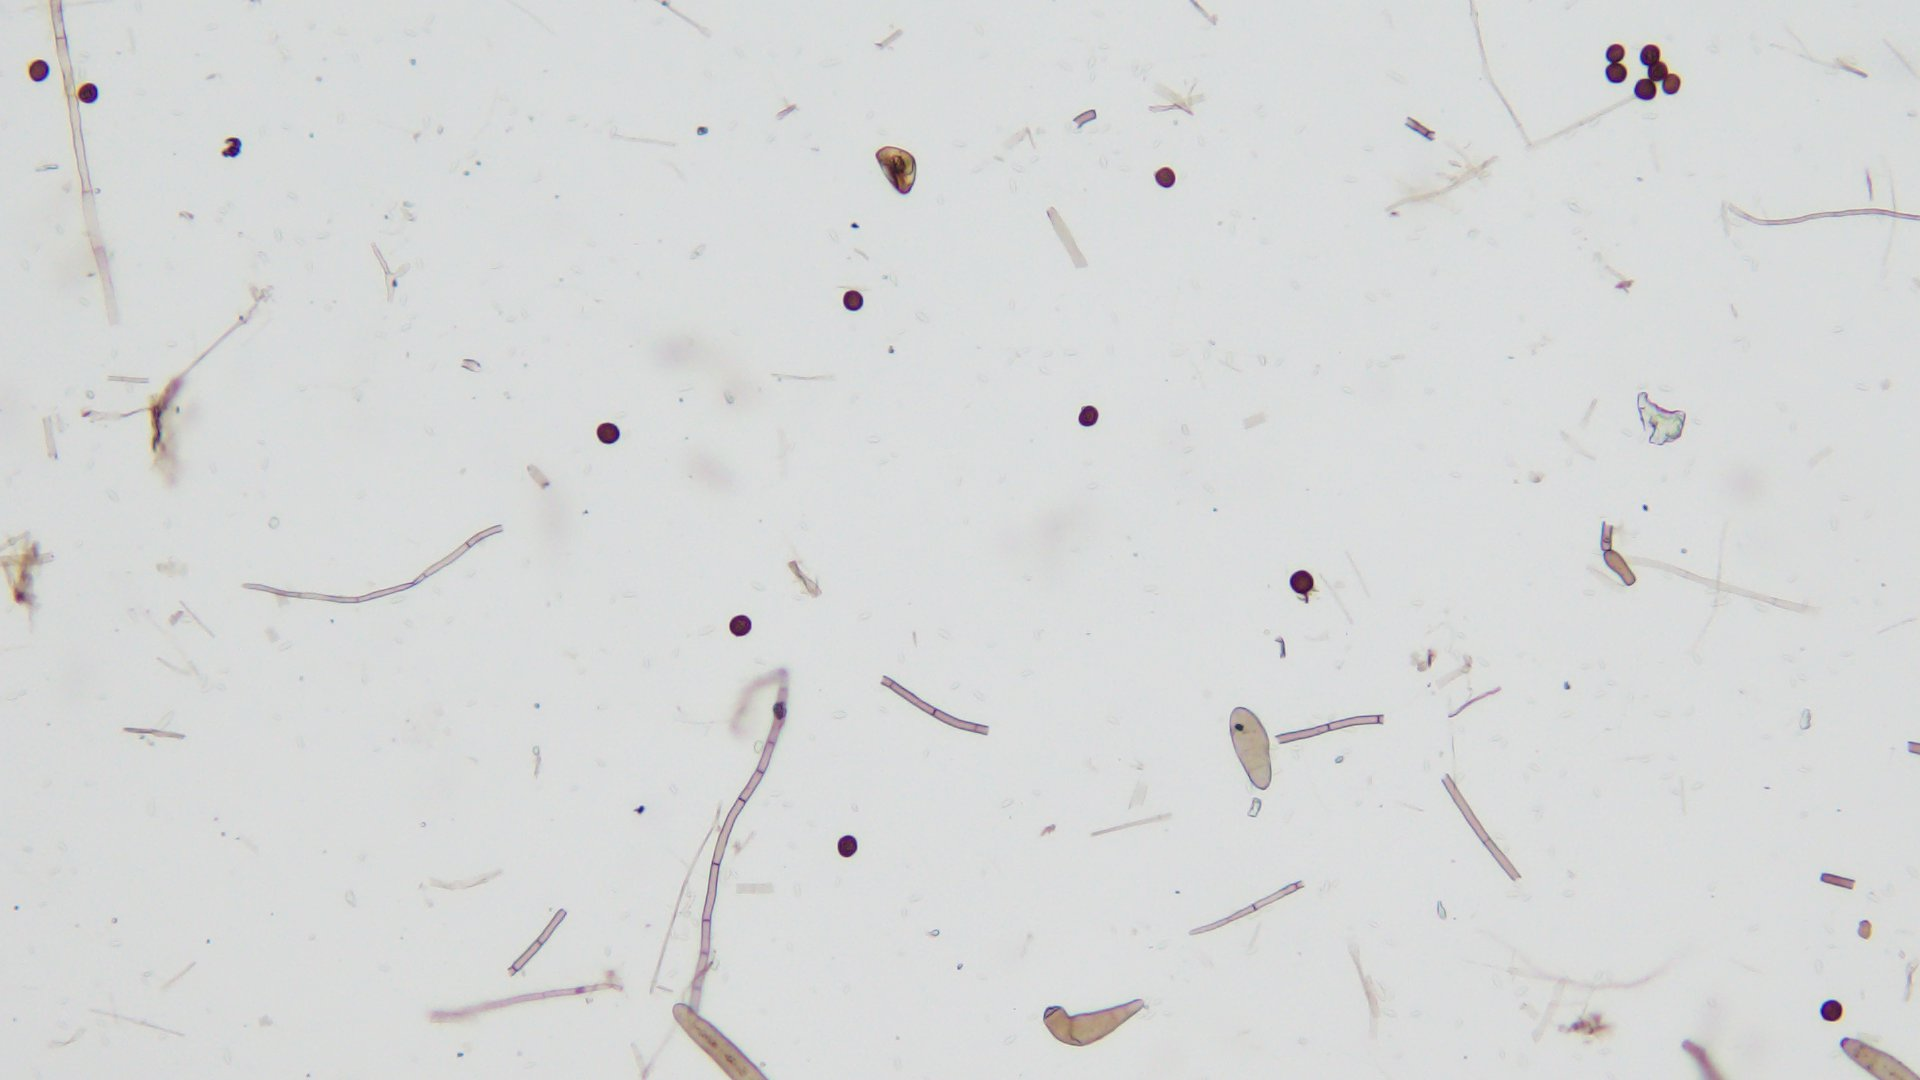dbb_spore: (666, 1002, 764, 1080), (1226, 705, 1274, 787), (1840, 1036, 1913, 1080)
shs_spore: (595, 422, 622, 447), (1290, 568, 1312, 597), (76, 80, 102, 105), (731, 612, 754, 638), (1077, 404, 1100, 429), (837, 835, 860, 858), (1602, 65, 1629, 84), (1818, 1000, 1842, 1021), (29, 58, 49, 82), (1636, 78, 1658, 99), (1642, 45, 1662, 65), (1647, 63, 1669, 80), (843, 291, 862, 310), (1664, 75, 1683, 95), (1607, 44, 1625, 61)
xb_spore: (876, 146, 916, 196), (1154, 165, 1178, 190)
